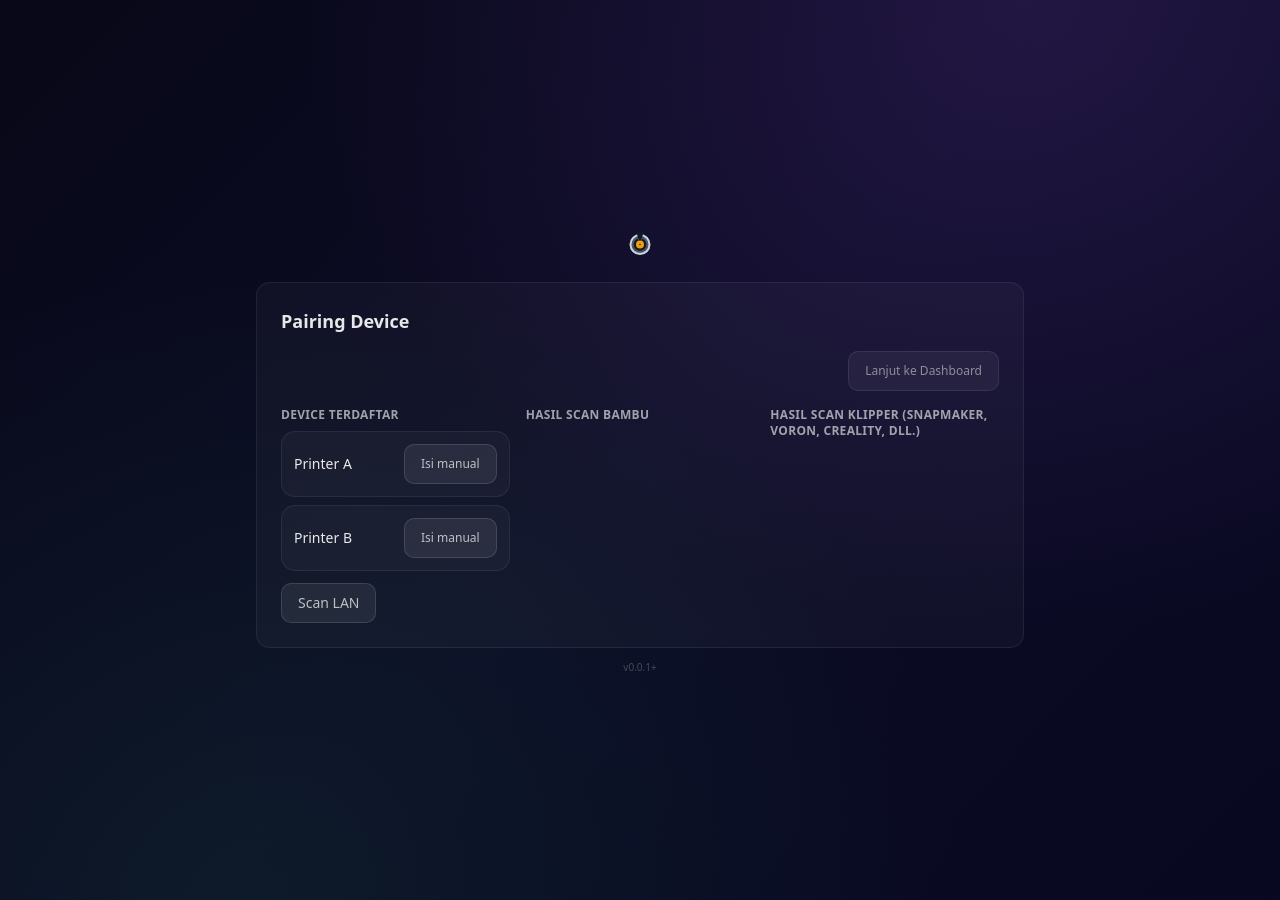
PairingScreen › pasangkan device kedua -> peringatan model dari device pertama tidak nyangkut (Fix 3)
Note: Ada 2 tombol "Isi manual" (satu per device belum-dipasangkan) -- device A duluan (index 0).
Click the button "Isi manual" next to "Printer A" at (450, 464), box 404,444 -> 497,484
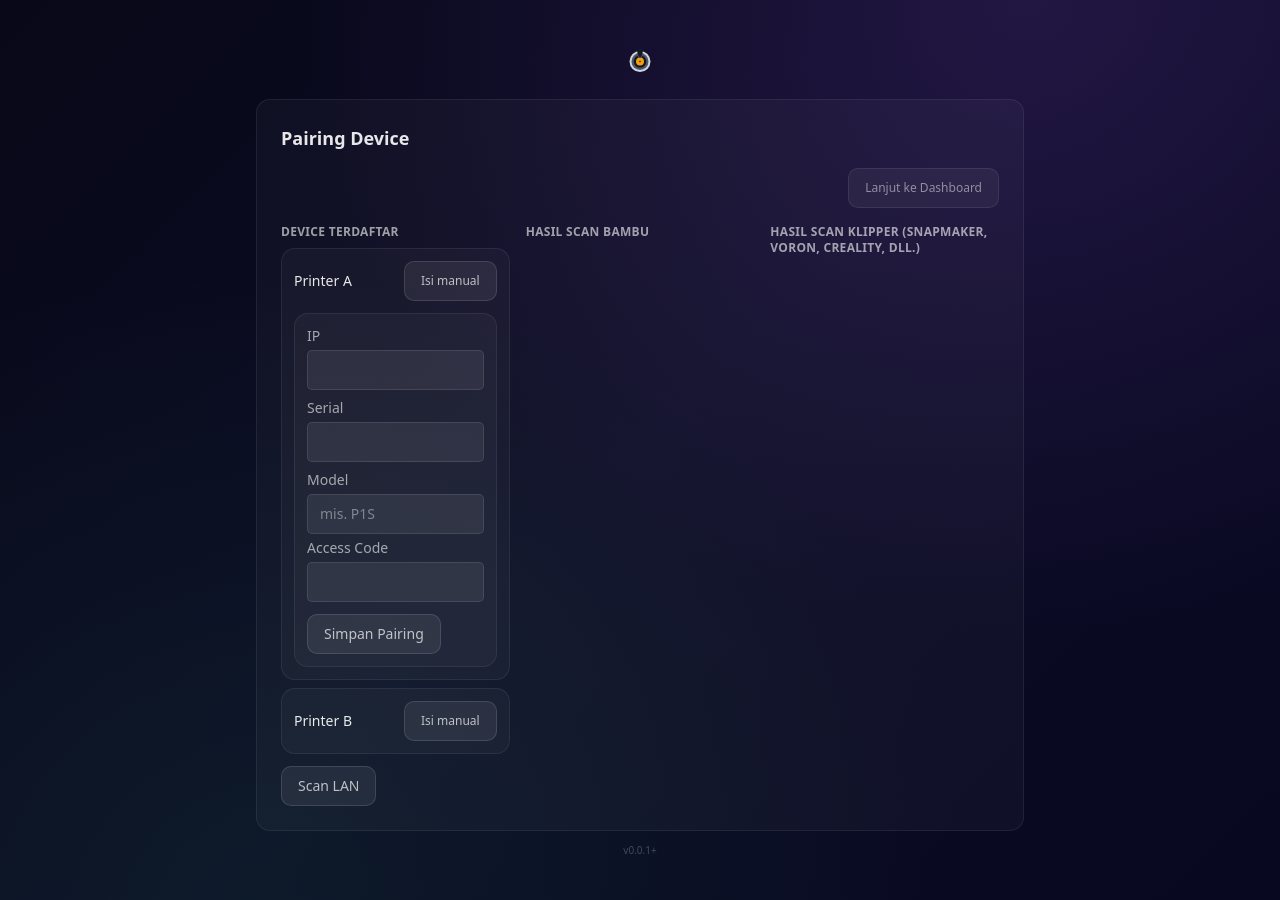
Type "10.0.0.9" into the field labelled "IP" at (395, 370), box 307,350 -> 484,390
Type "MANUAL1" into the field labelled "Serial" at (395, 442), box 307,422 -> 484,462
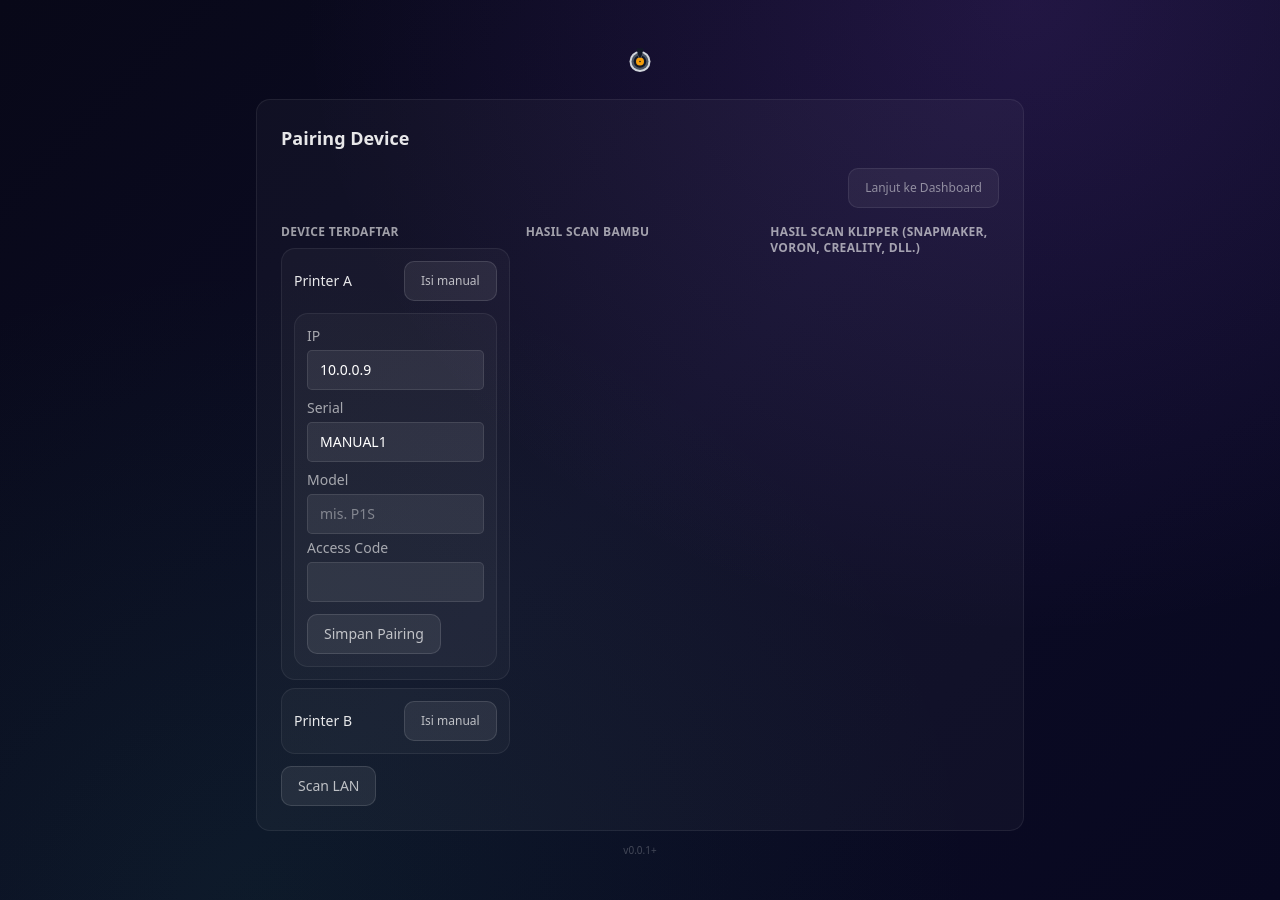
Type "P1P" into the field labelled "Model" at (395, 514), box 307,494 -> 484,534
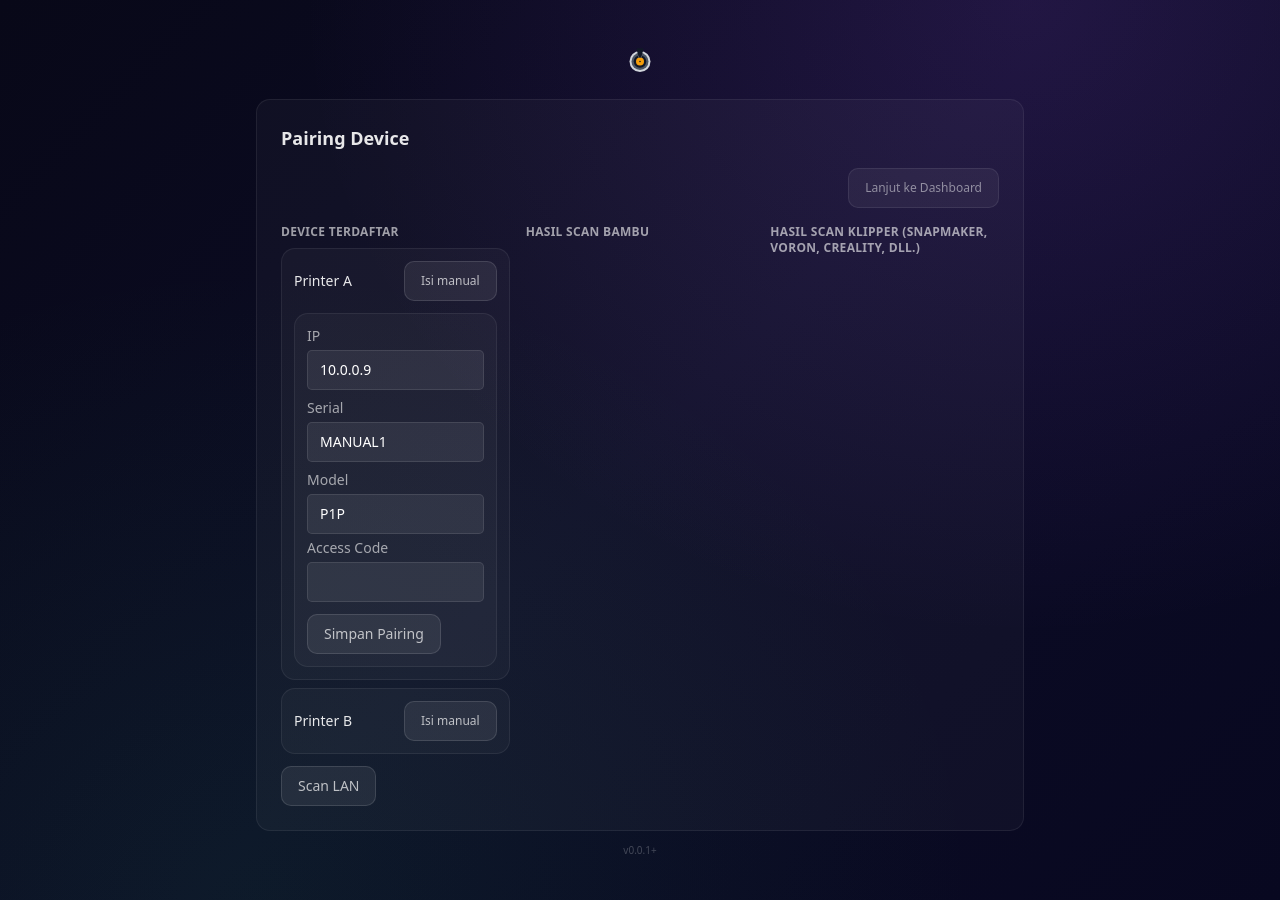
Type "1111" into the field labelled "Access Code" at (395, 582), box 307,562 -> 484,602
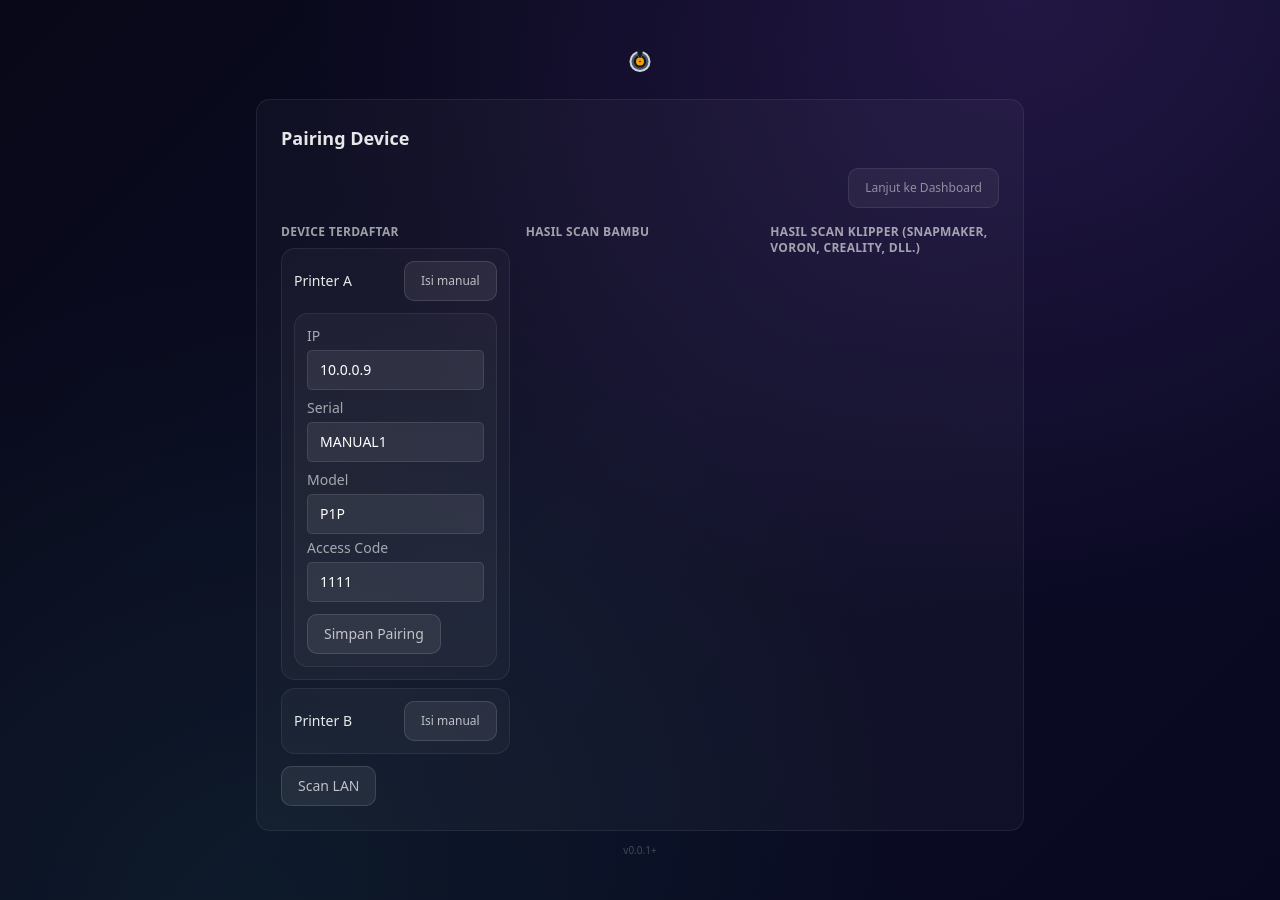
Click the button "Simpan Pairing" at (374, 634), box 307,614 -> 441,654
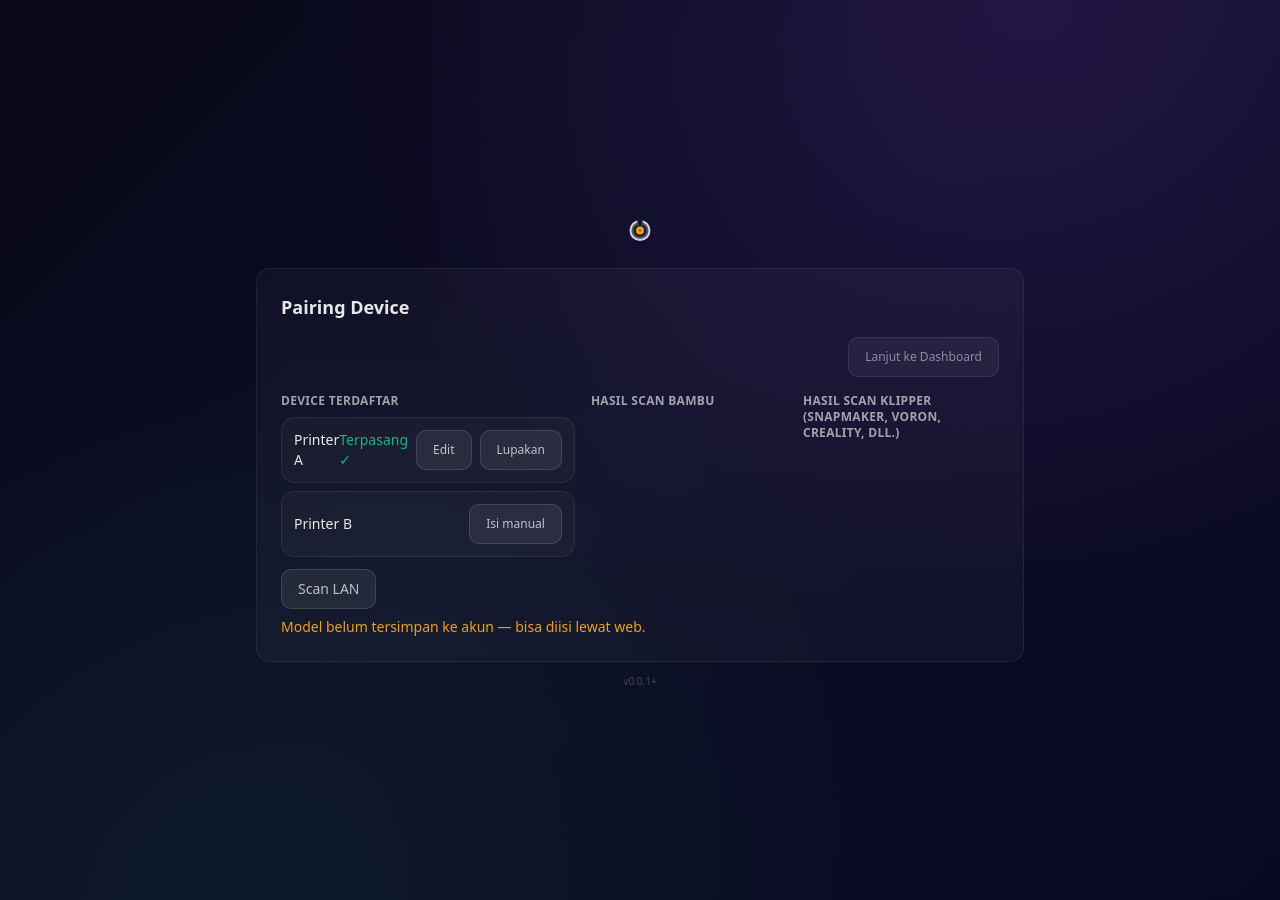
Check: the text "Model belum tersimpan ke akun — bisa diisi lewat web." is shown, box 281,616 -> 646,636
Click the button "Isi manual" at (516, 524), box 469,504 -> 562,544
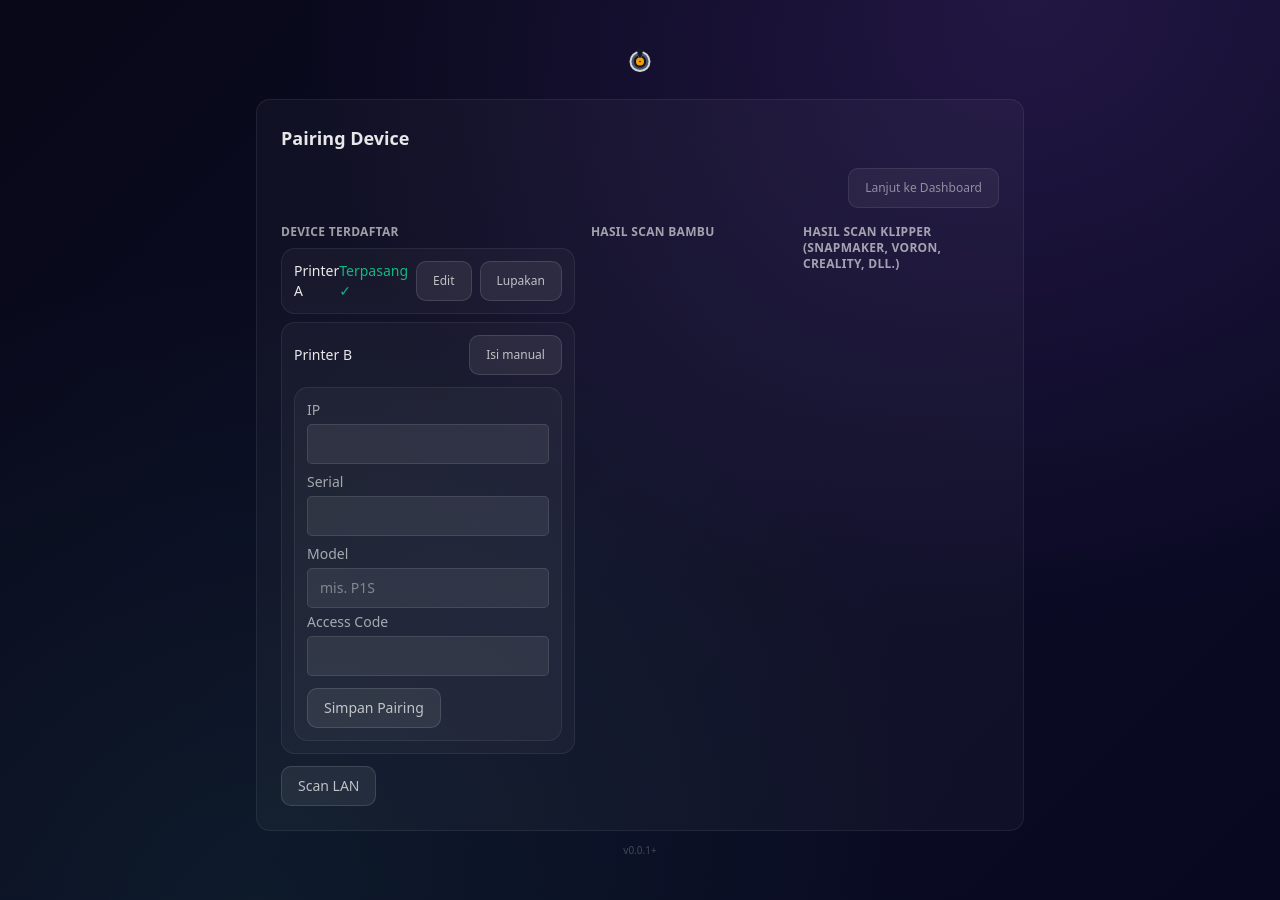
Check: the text "Model belum tersimpan ke akun" is gone
